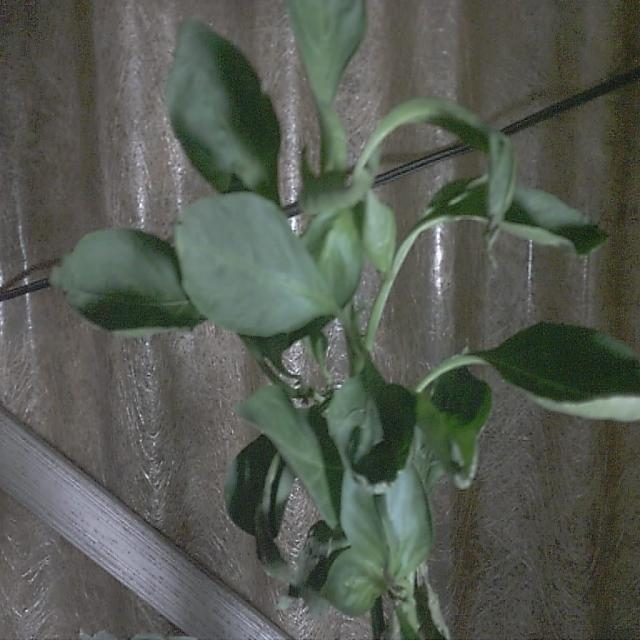Leaf: (171, 188, 328, 337), (162, 17, 280, 204), (49, 226, 197, 337), (484, 321, 640, 422), (326, 370, 419, 494)
